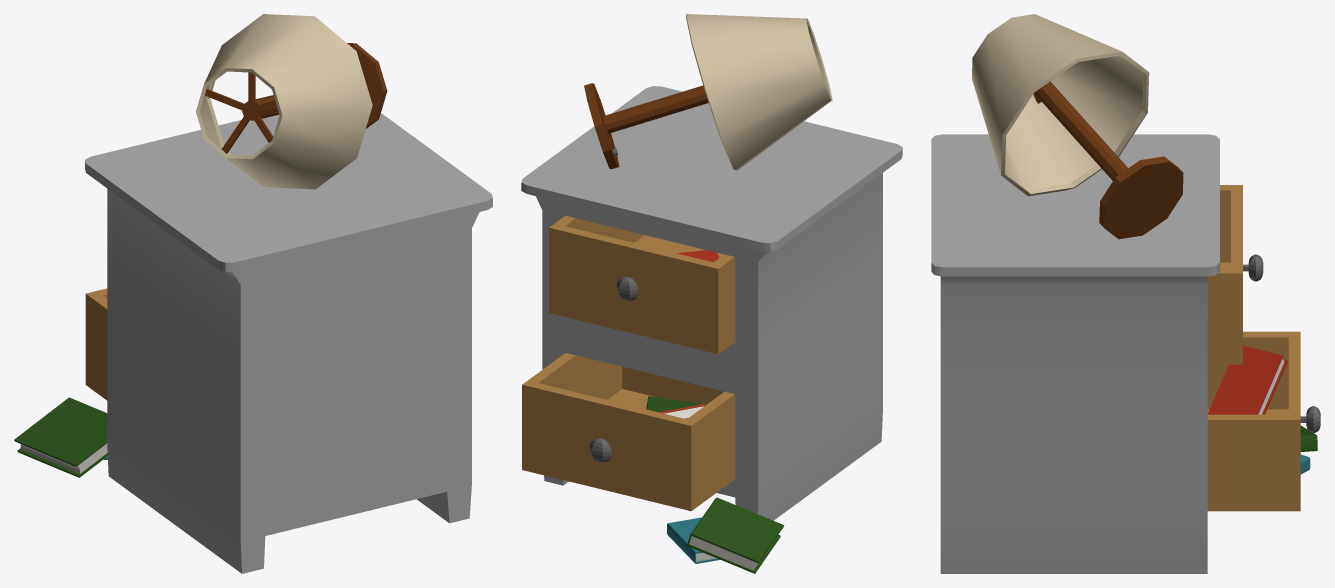
File: furniture_sidetable_d.fbx
The picture shows the model from 3 angles, left to right: view 1: azimuth 30°, elevation 25°; view 2: azimuth 150°, elevation 25°; view 3: azimuth 270°, elevation 25°; orthographic projection. The views are drawn at different scales.
Visible parts, largest first — view 1: book1:book1; view 2: book1:book1; view 3: book1:book1.
Boxes of the visible parts, x1,y1,x2,y2 form: book1:book1: (14,14,492,573); book1:book1: (521,14,902,573); book1:book1: (931,14,1320,573).
Bounding box in the file's own units: 12.68 × 19.18 × 14.31.
